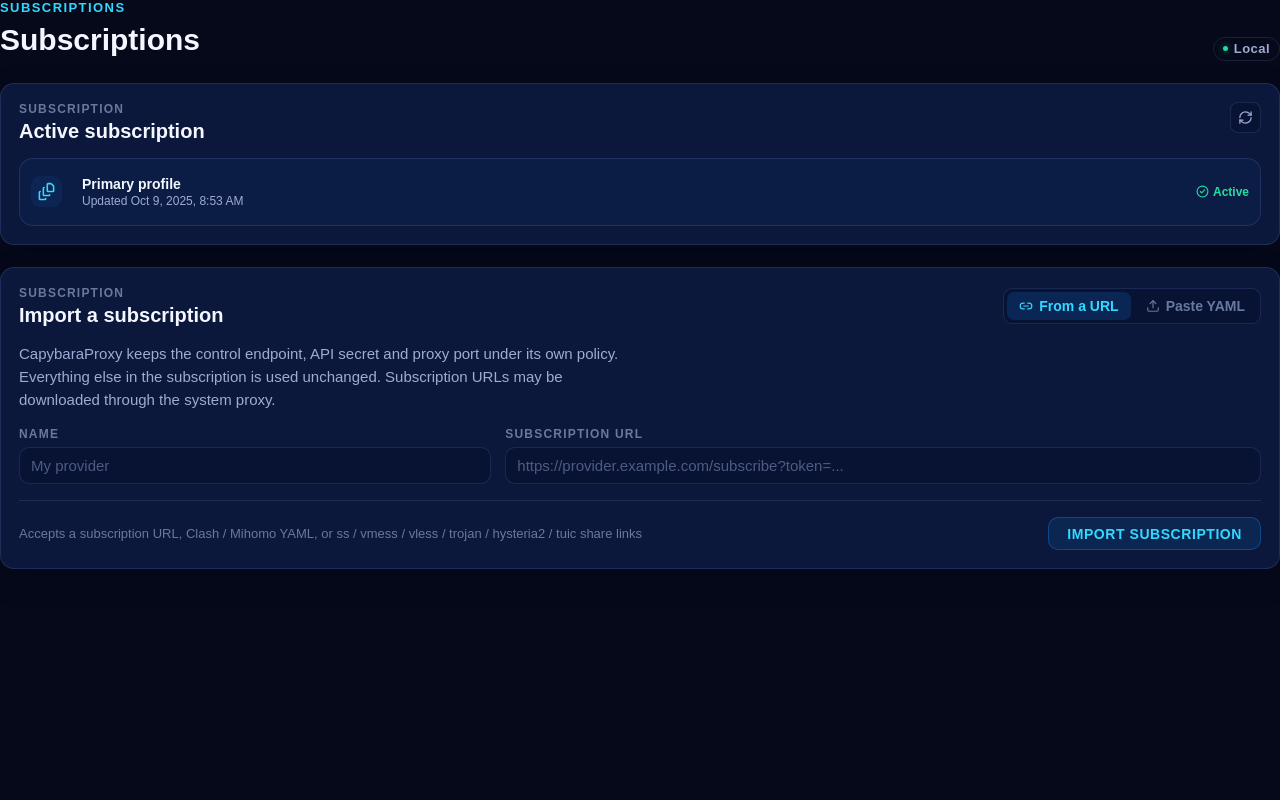
Test: real data workspace pages › reports a subscription import failure without hiding the form
Expected: the text "Primary profile" is shown, [82,176,181,192]
Step 1. Type "Broken" into the field labelled "Name" → (255, 466), box [19,447,491,484]
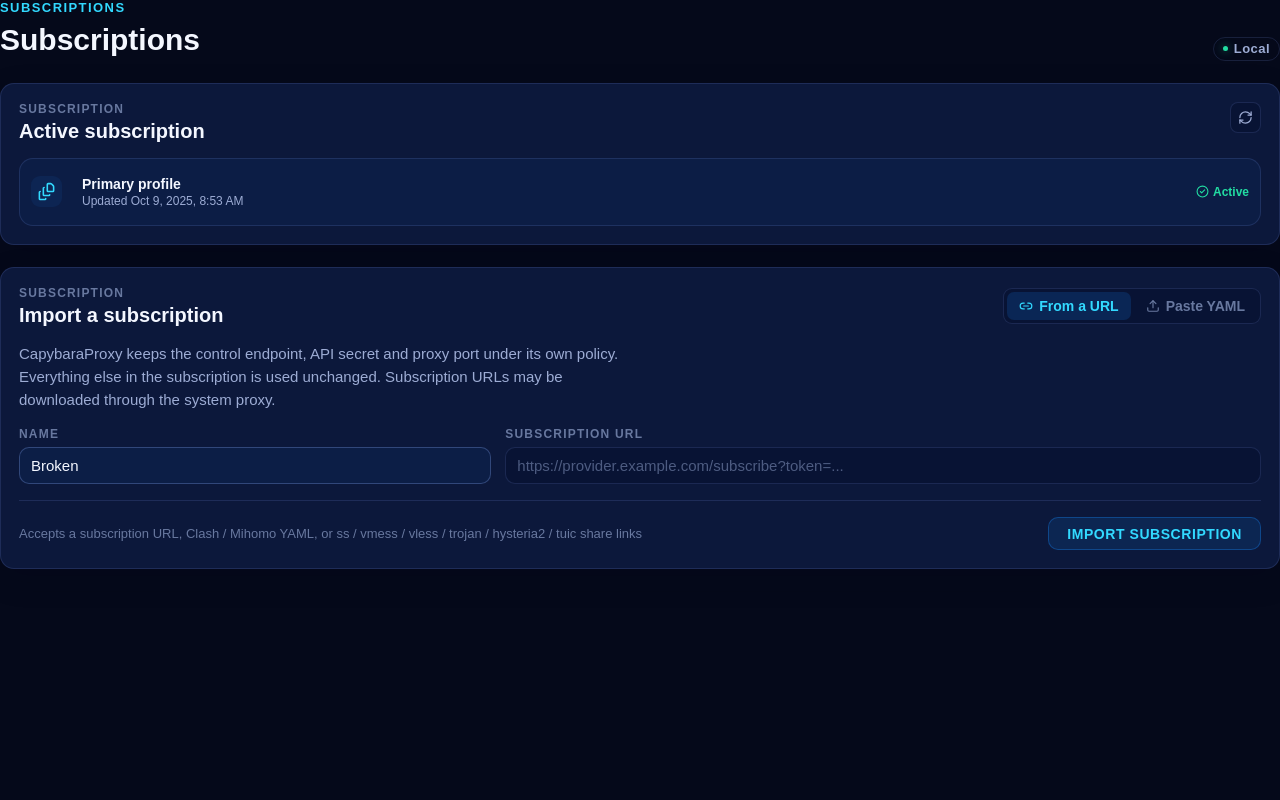
Step 2. Click the tab "Paste YAML" → (1195, 306), box [1134,292,1257,320]
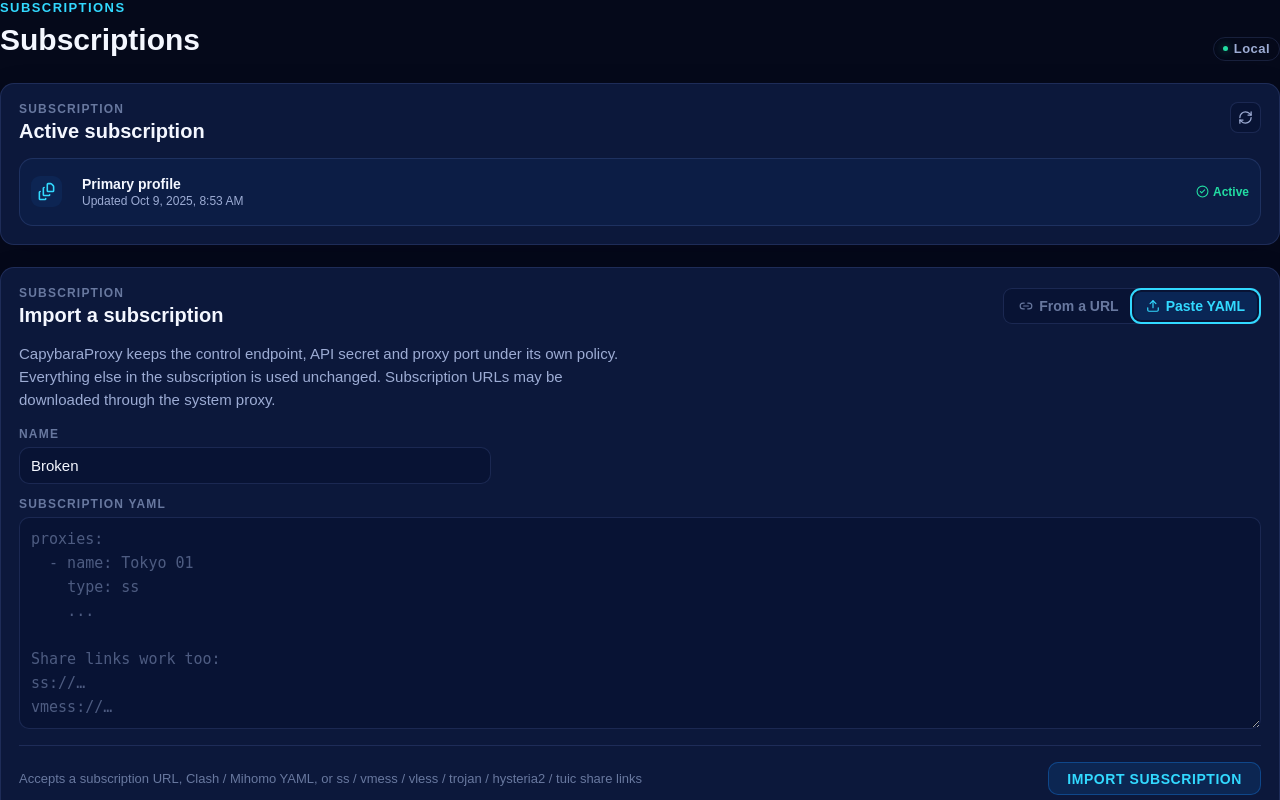
Note: `userEvent.type` treats `[` as a key descriptor, so paste the YAML.
Step 3. Click the text box labelled "Subscription YAML" → (640, 623), box [19,517,1261,729]
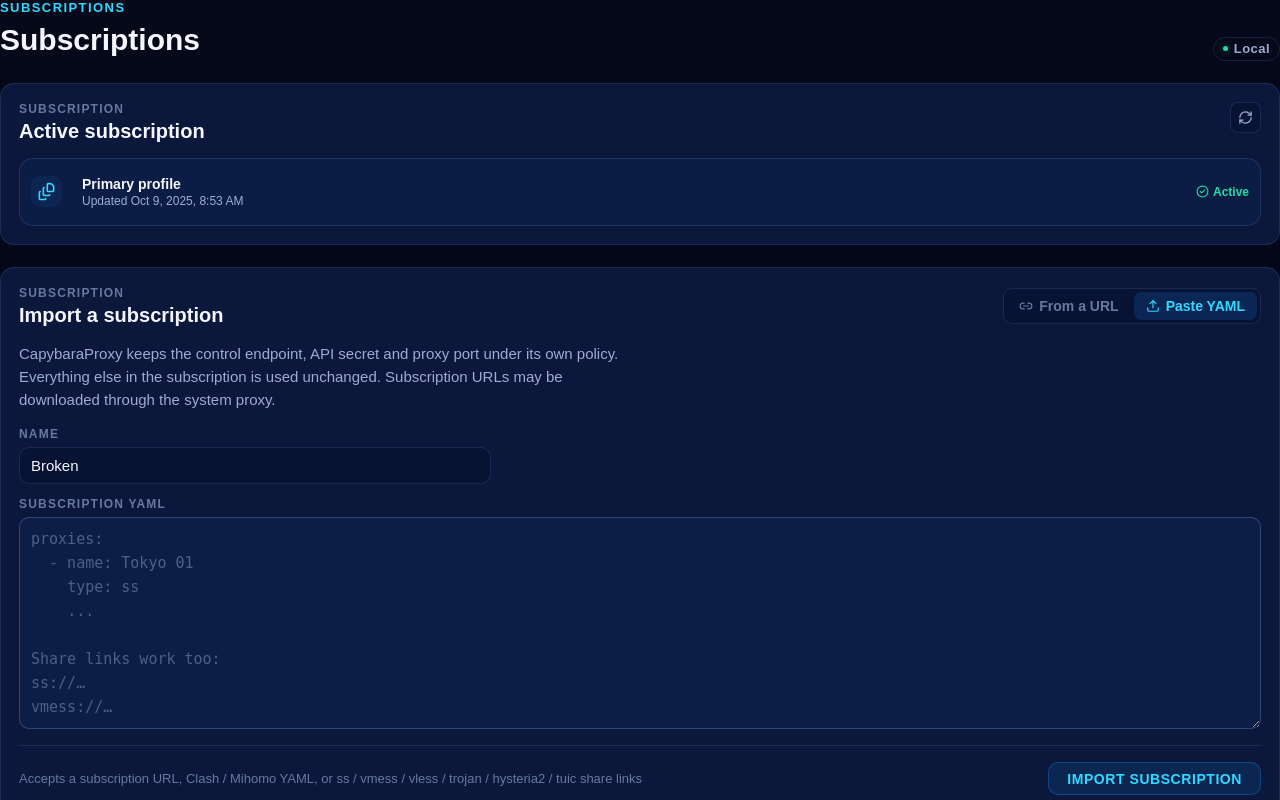
Step 4. Type keys "cHJveGllczogW10="
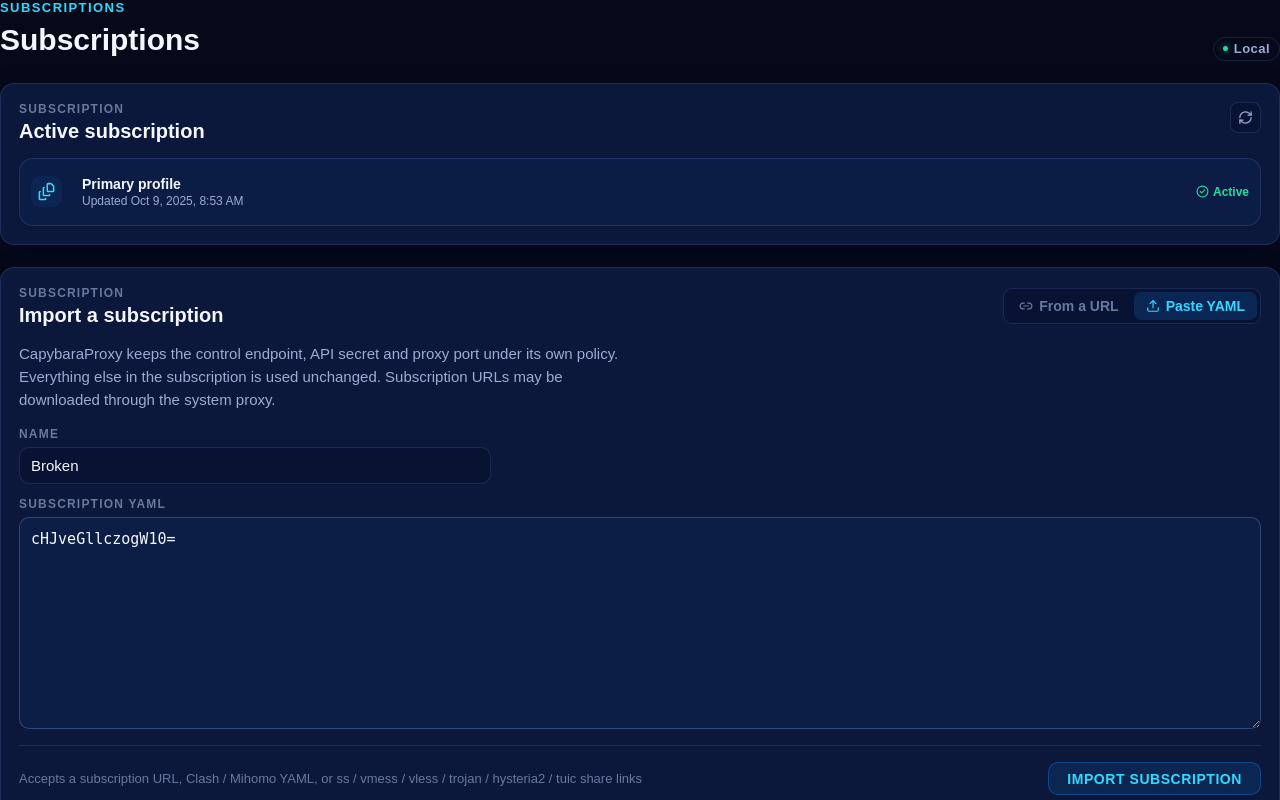
Step 5. Click the button "Import subscription" → (1155, 779), box [1048,762,1261,795]
(page scrolled)
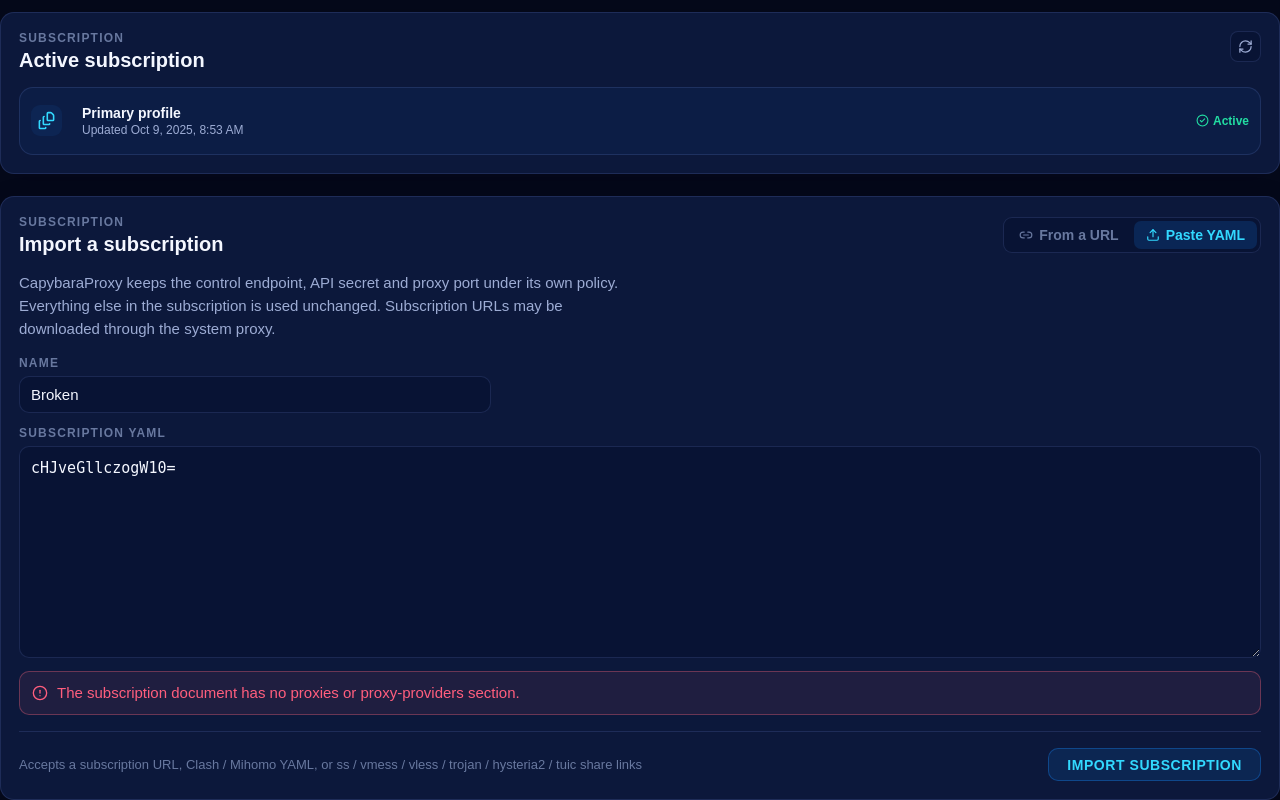
Expected: the button "Import subscription" is shown, [1048,748,1261,781]
Now the text "has no proxies or proxy-providers section" is shown, box [57,684,520,701]
